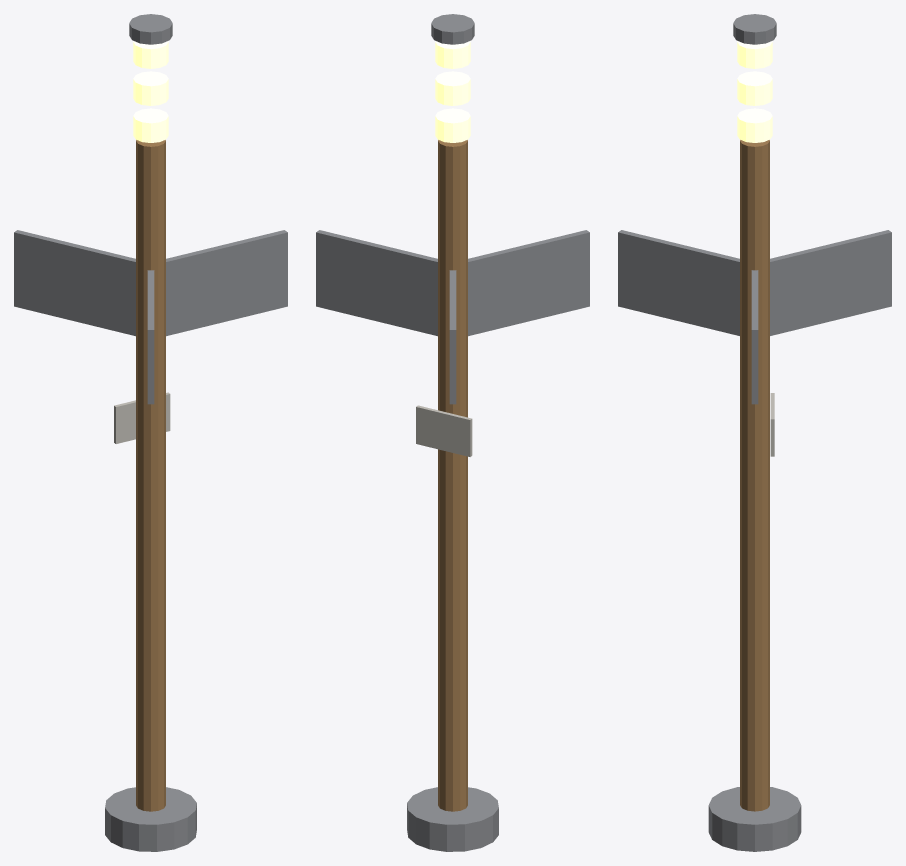
The model's file is place_lane_pin.glb.
3 renders of one model, left to right at view 1: azimuth 30°, elevation 25°; view 2: azimuth 150°, elevation 25°; view 3: azimuth 270°, elevation 25°, orthographic.
Parts seen in each view (by area): view 1: pin_mast, pin_vane_0, pin_vane_1, pin_base_collar, pin_cap, pin_lens_0, pin_lens_1, pin_vane_2, pin_placard, pin_lens_2; view 2: pin_mast, pin_vane_0, pin_vane_2, pin_base_collar, pin_placard, pin_cap, pin_lens_0, pin_lens_1, pin_vane_1, pin_lens_2; view 3: pin_mast, pin_vane_1, pin_vane_2, pin_base_collar, pin_cap, pin_lens_0, pin_lens_1, pin_vane_0, pin_lens_2.
Boxes of the visible parts, x1=… form: pin_mast: x1=136, y1=140, x2=165, y2=811; pin_vane_0: x1=166, y1=230, x2=287, y2=336; pin_vane_1: x1=14, y1=230, x2=135, y2=336; pin_base_collar: x1=105, y1=787, x2=196, y2=851; pin_cap: x1=129, y1=14, x2=172, y2=44; pin_lens_0: x1=133, y1=108, x2=168, y2=142; pin_lens_1: x1=133, y1=71, x2=168, y2=105; pin_vane_2: x1=147, y1=270, x2=154, y2=404; pin_placard: x1=114, y1=392, x2=170, y2=443; pin_lens_2: x1=133, y1=41, x2=168, y2=68; pin_mast: x1=438, y1=140, x2=467, y2=811; pin_vane_0: x1=316, y1=230, x2=437, y2=336; pin_vane_2: x1=468, y1=230, x2=589, y2=336; pin_base_collar: x1=407, y1=787, x2=498, y2=851; pin_placard: x1=416, y1=405, x2=472, y2=456; pin_cap: x1=431, y1=14, x2=474, y2=44; pin_lens_0: x1=435, y1=108, x2=470, y2=142; pin_lens_1: x1=435, y1=71, x2=470, y2=105; pin_vane_1: x1=449, y1=270, x2=456, y2=404; pin_lens_2: x1=435, y1=41, x2=470, y2=68; pin_mast: x1=740, y1=140, x2=769, y2=811; pin_vane_1: x1=770, y1=230, x2=891, y2=335; pin_vane_2: x1=618, y1=230, x2=739, y2=335; pin_base_collar: x1=708, y1=787, x2=801, y2=851; pin_cap: x1=733, y1=14, x2=776, y2=44; pin_lens_0: x1=737, y1=108, x2=772, y2=142; pin_lens_1: x1=737, y1=71, x2=772, y2=105; pin_vane_0: x1=751, y1=270, x2=758, y2=404; pin_lens_2: x1=737, y1=41, x2=772, y2=68.
Size of the model in its own units: 1.74 by 6.55 by 2.01.
